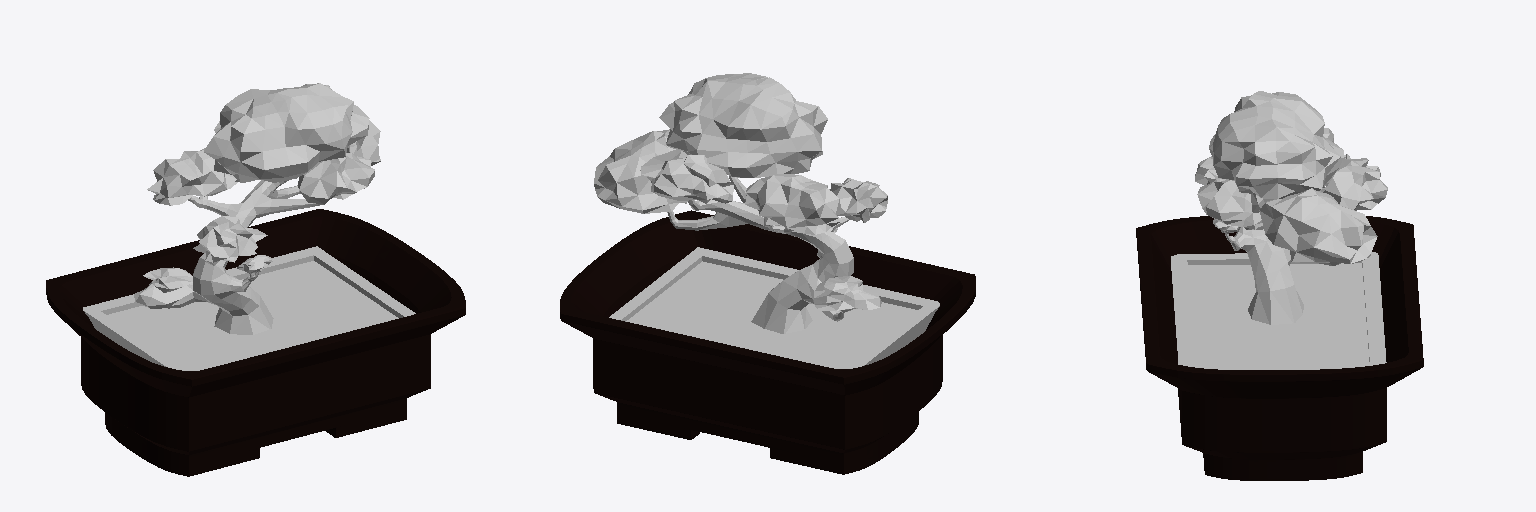
File: Bonsai.obj
The picture shows the model from 3 angles: view 1: azimuth 30°, elevation 25°; view 2: azimuth 150°, elevation 25°; view 3: azimuth 270°, elevation 25°; orthographic projection.
Parts seen in each view (by area): view 1: Bonsai_pot; view 2: Bonsai_pot; view 3: Bonsai_pot.
Boxes of the visible parts, <box> form: Bonsai_pot: <box>46,83,465,476</box>; Bonsai_pot: <box>560,73,975,474</box>; Bonsai_pot: <box>1136,91,1423,480</box>.
Bounding box in the file's own units: 0.577 × 0.5458 × 0.4339.